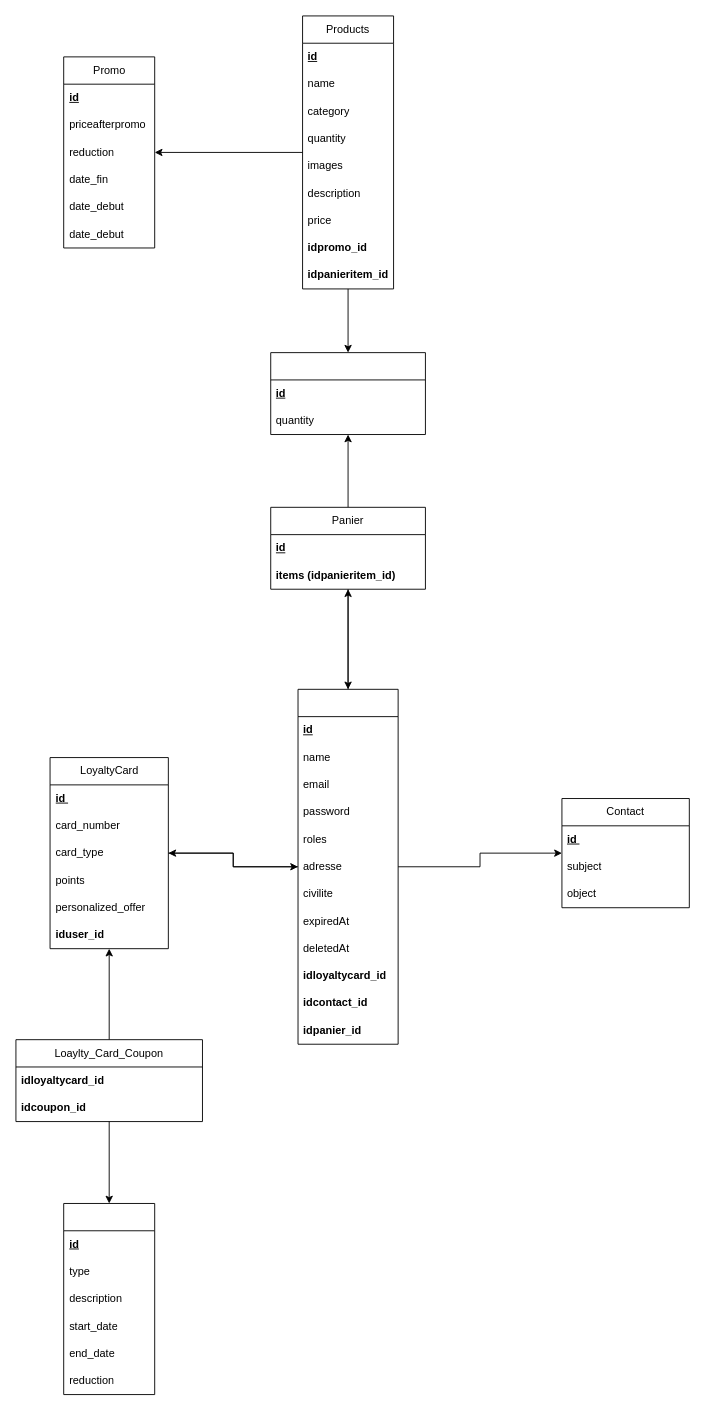
Some shapes in this 705 by 1411 pixel diagram are drawn without their labels. The box of each missing label's shape, as (x1, y1, x2, y2) in pixels:
Coupon: (63, 1203, 155, 1395)
PanierItem: (270, 352, 425, 435)
User: (297, 688, 398, 1044)
